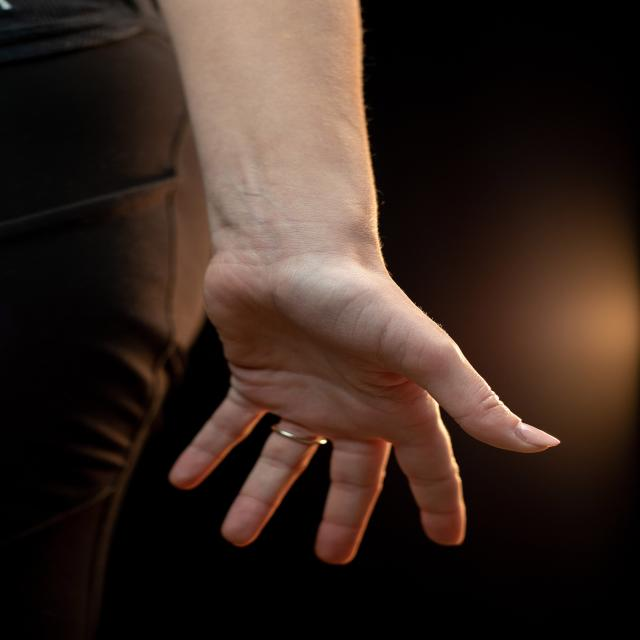no-gloves: (166, 240, 563, 566)
